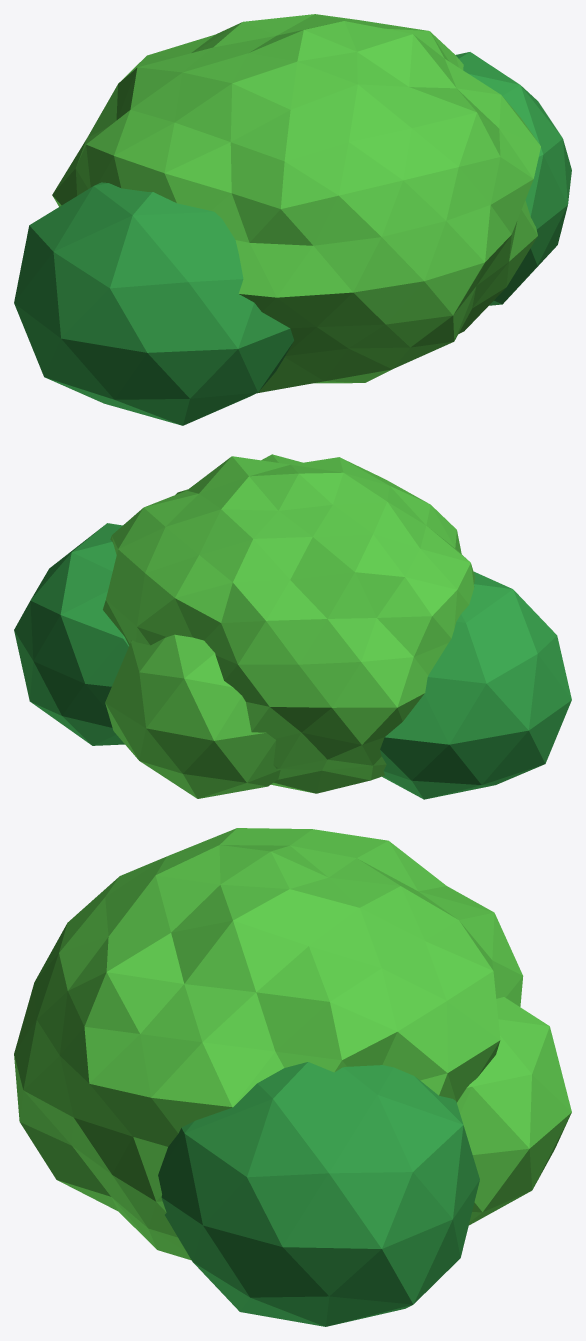
The model's file is bush_a.glb.
The picture shows the model from 3 angles, top to bottom: view 1: azimuth 30°, elevation 25°; view 2: azimuth 150°, elevation 25°; view 3: azimuth 270°, elevation 25°; orthographic projection. The views are drawn at different scales.
Visible parts, largest first — view 1: bush_a; view 2: bush_a; view 3: bush_a.
Part boxes in pixels (x1,y1,x2,y2): bush_a: (14,14,571,425); bush_a: (14,454,571,799); bush_a: (14,828,571,1326).
Size of the model in its own units: 2.24 by 1.21 by 1.7.
